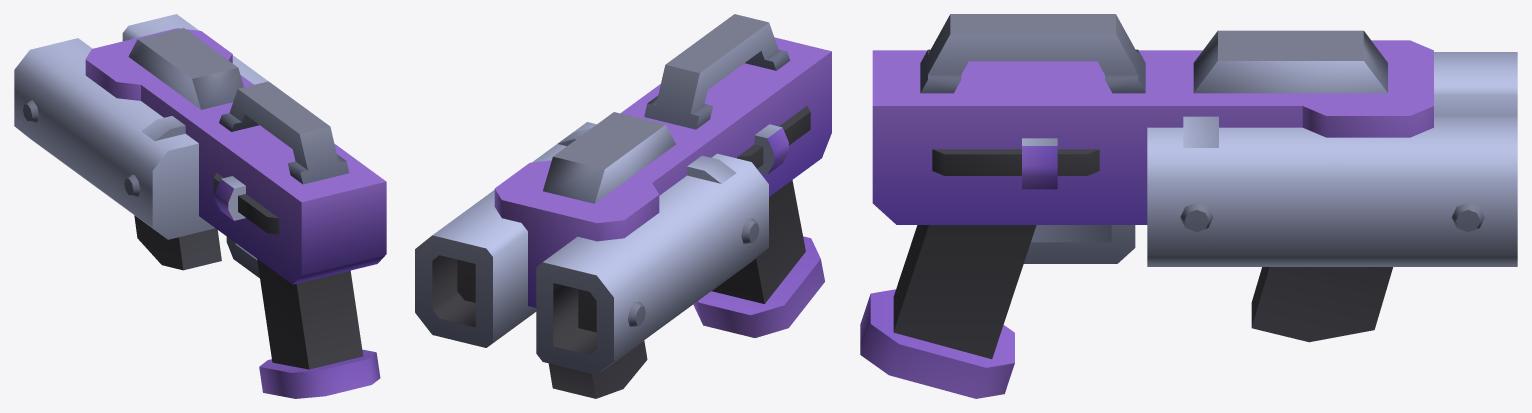
Rendered from shotgun.glb.
3 views of the same model, side by side, from view 1: azimuth 30°, elevation 25°; view 2: azimuth 150°, elevation 25°; view 3: azimuth 270°, elevation 25° (orthographic). The views are drawn at different scales.
Parts seen in each view (by area): view 1: blaster-l; view 2: blaster-l; view 3: blaster-l.
Boxes of the visible parts, x1,y1,x2,y2 form: blaster-l: (14, 14, 386, 398); blaster-l: (415, 14, 831, 398); blaster-l: (860, 14, 1517, 398).
Bounding box in the file's own units: 0.2438 × 0.3279 × 0.5504.
1 material, 1 textured.
